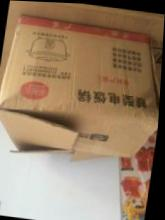cardboard: (0, 1, 163, 158)
